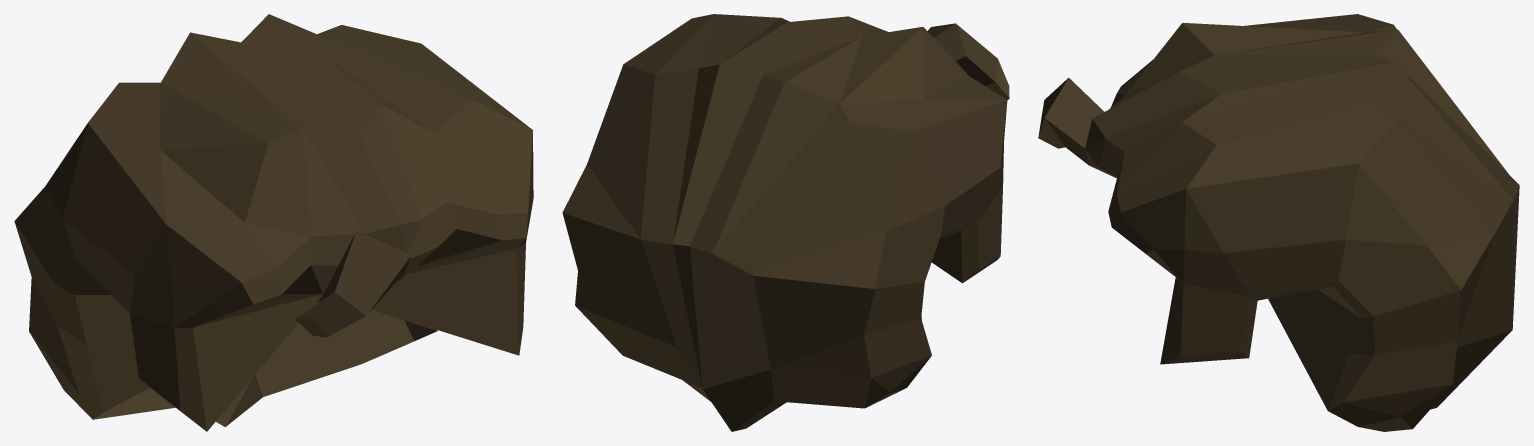
File: Chr_Hair_10_Static.fbx
3 renders of one model, left to right at view 1: azimuth 30°, elevation 25°; view 2: azimuth 150°, elevation 25°; view 3: azimuth 270°, elevation 25°, orthographic. The views are drawn at different scales.
Visible parts, largest first — view 1: Chr_Hair_10_Static; view 2: Chr_Hair_10_Static; view 3: Chr_Hair_10_Static.
Part boxes in pixels (x1,y1,x2,y2): Chr_Hair_10_Static: (14, 14, 533, 431); Chr_Hair_10_Static: (562, 14, 1009, 431); Chr_Hair_10_Static: (1038, 14, 1519, 431).
Bounding box in the file's own units: 0.254 × 0.254 × 0.3001.
